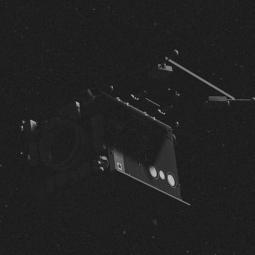proba_2: (15, 47, 230, 216)
